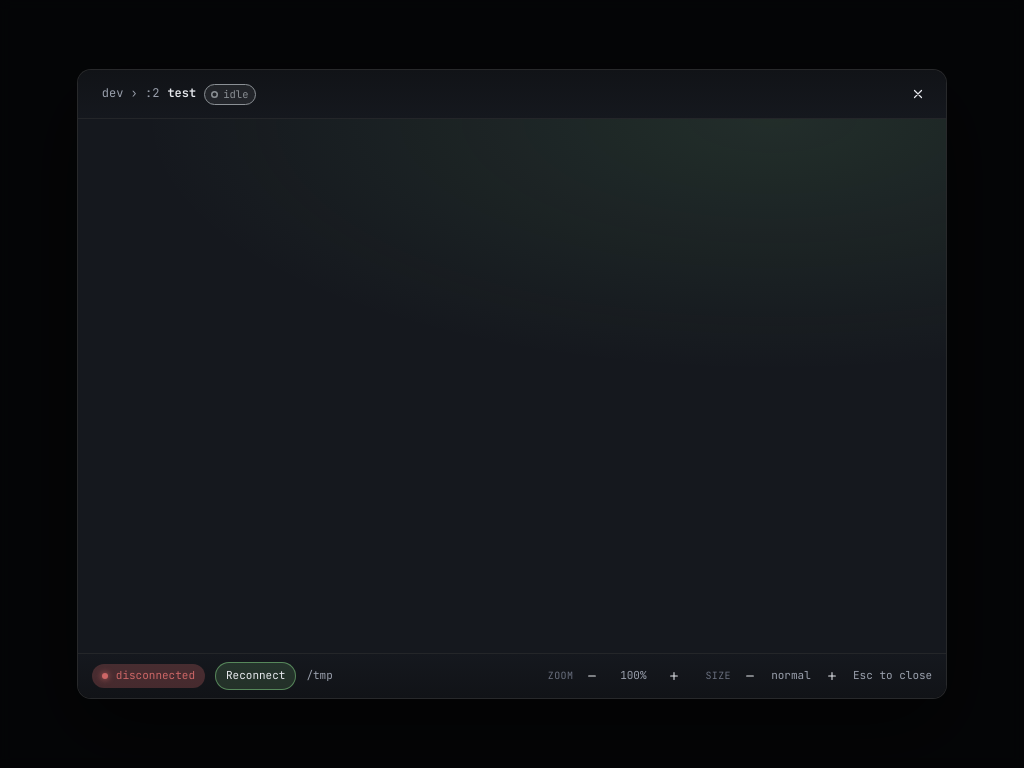
Test: TerminalModal — reconnect › manual Reconnect button resets the attempt counter and opens a fresh WS
Click the button "Reconnect" at x=256, y=676, box 215,662 -> 296,690
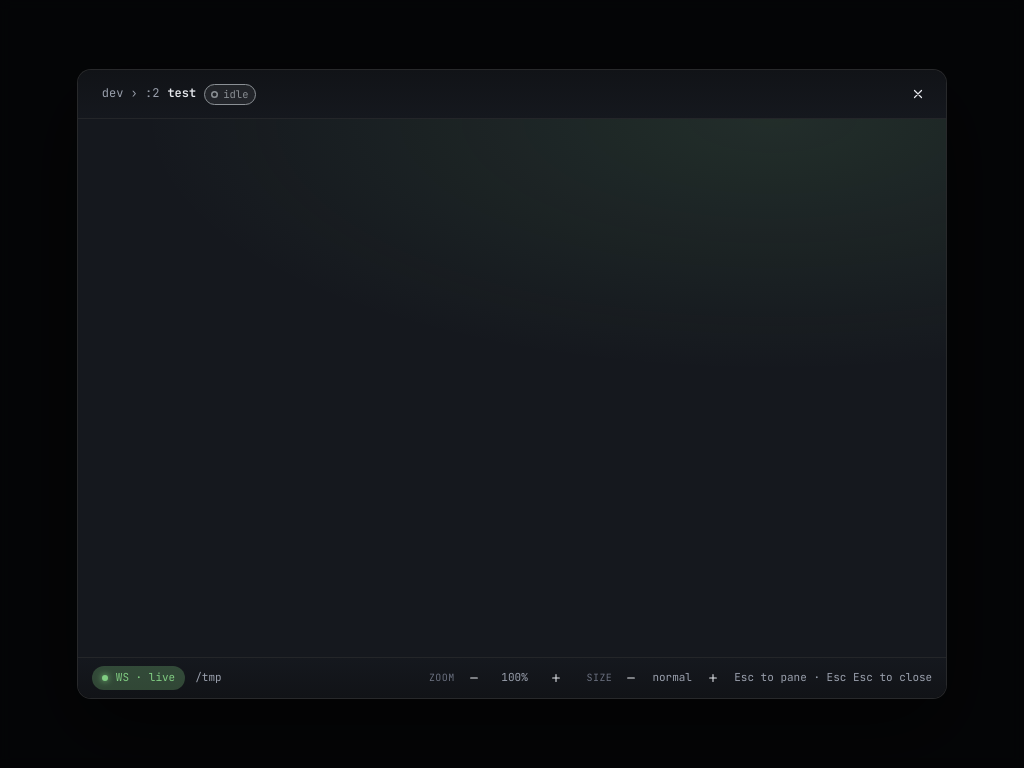
Expected: the element with class "connect-pill" reads "WS · live", 116,670 -> 175,684
